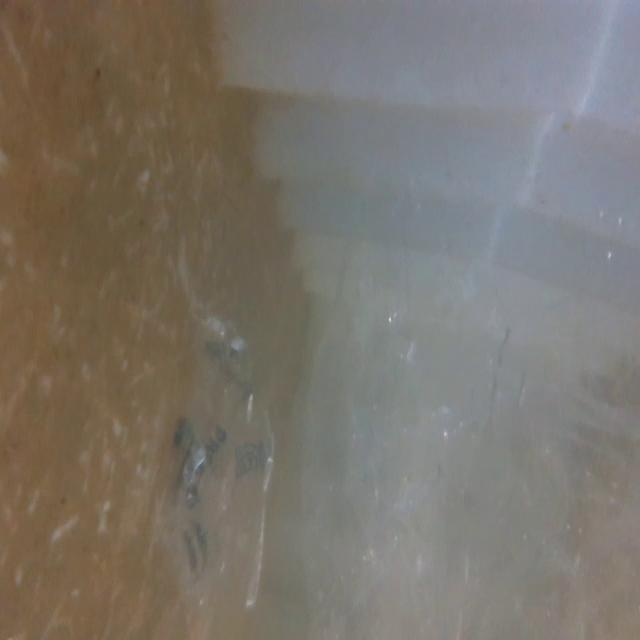plastic bags: (170, 308, 288, 628)
